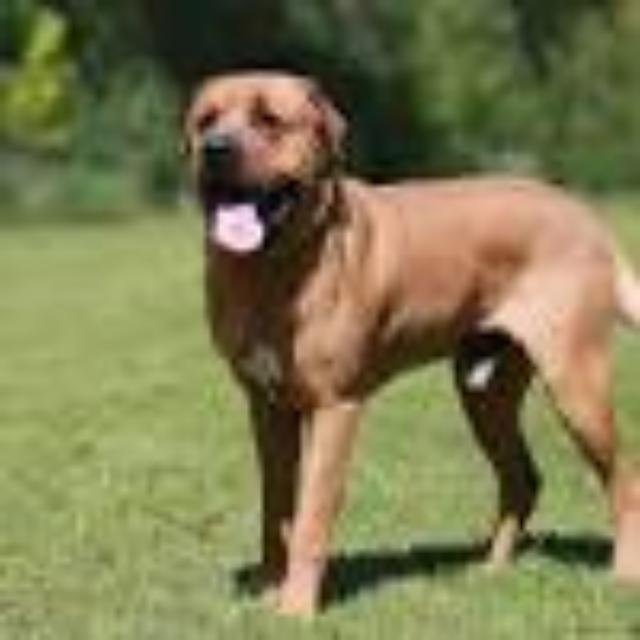dog: (172, 53, 370, 271)
